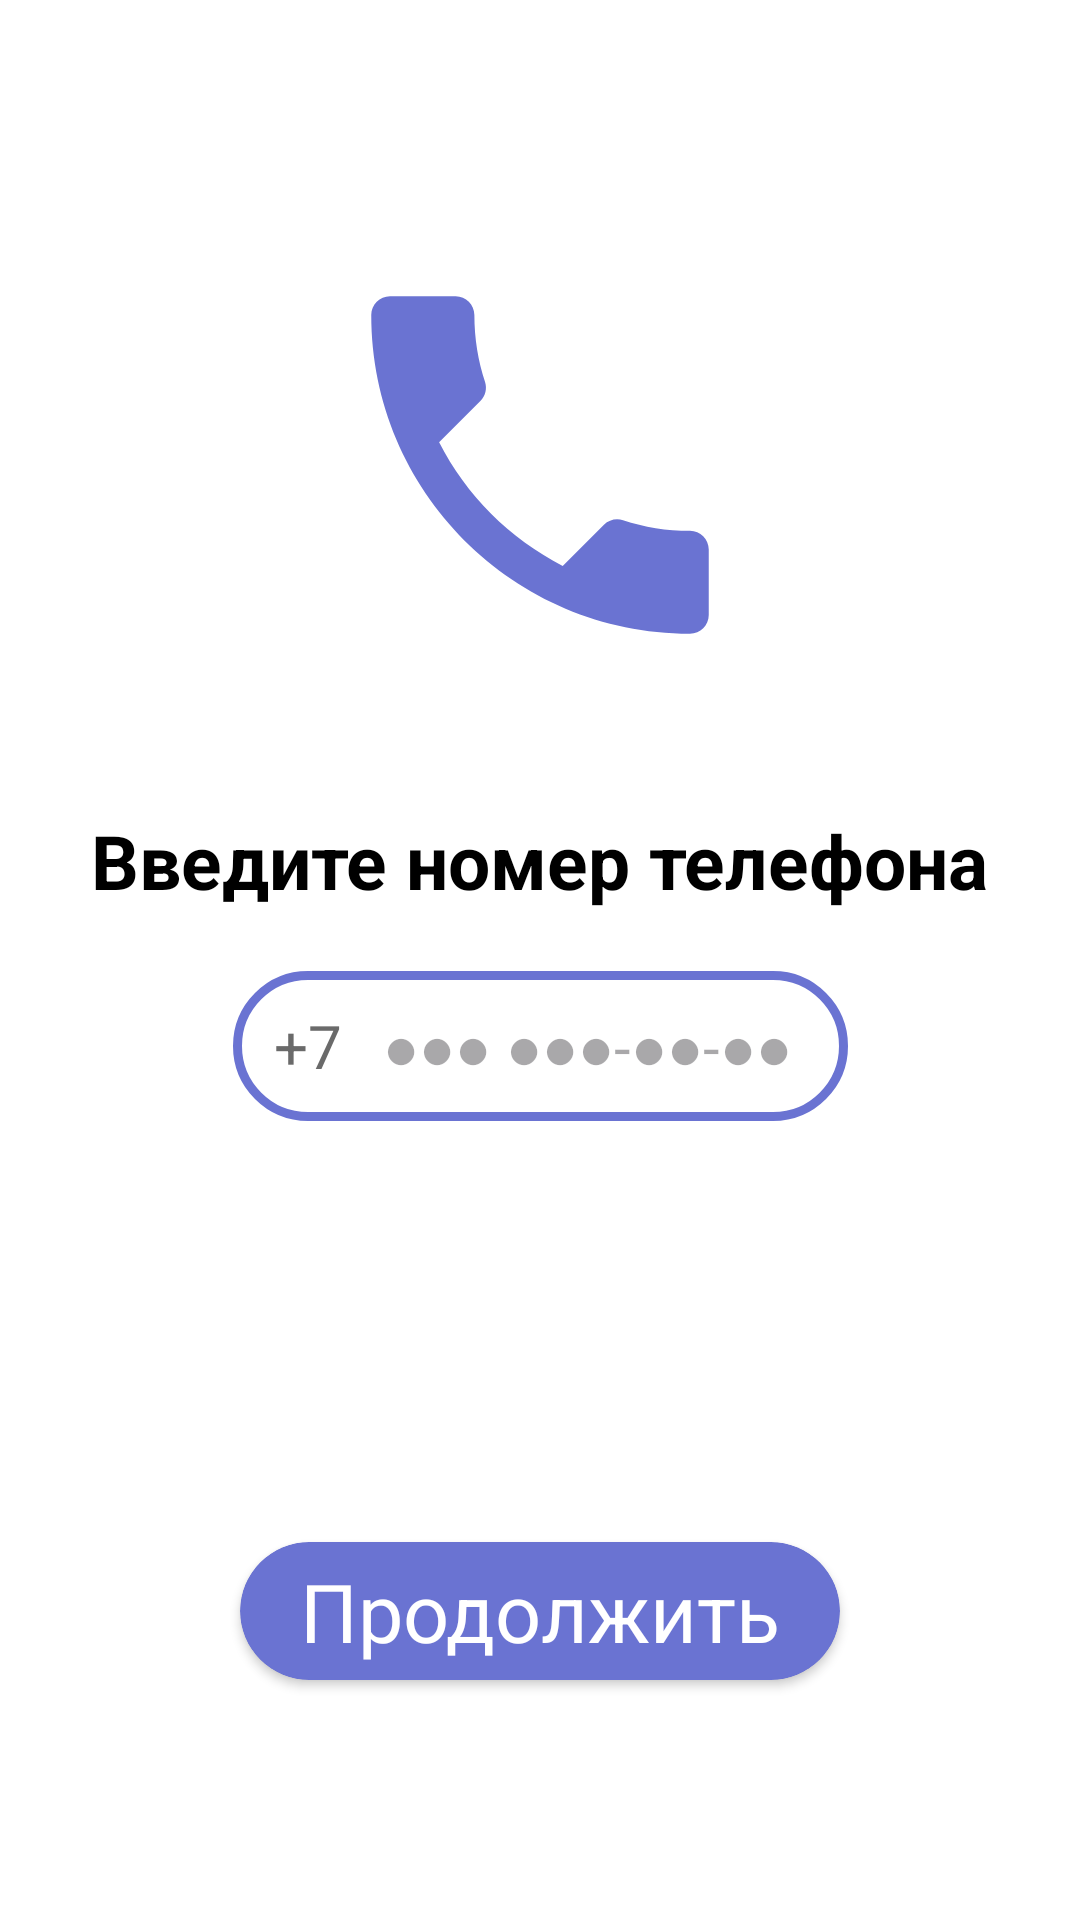

Named icons in this screenshot (1080x1920) and their centers, (x=x, y=y):
phone: (x=540, y=465)
